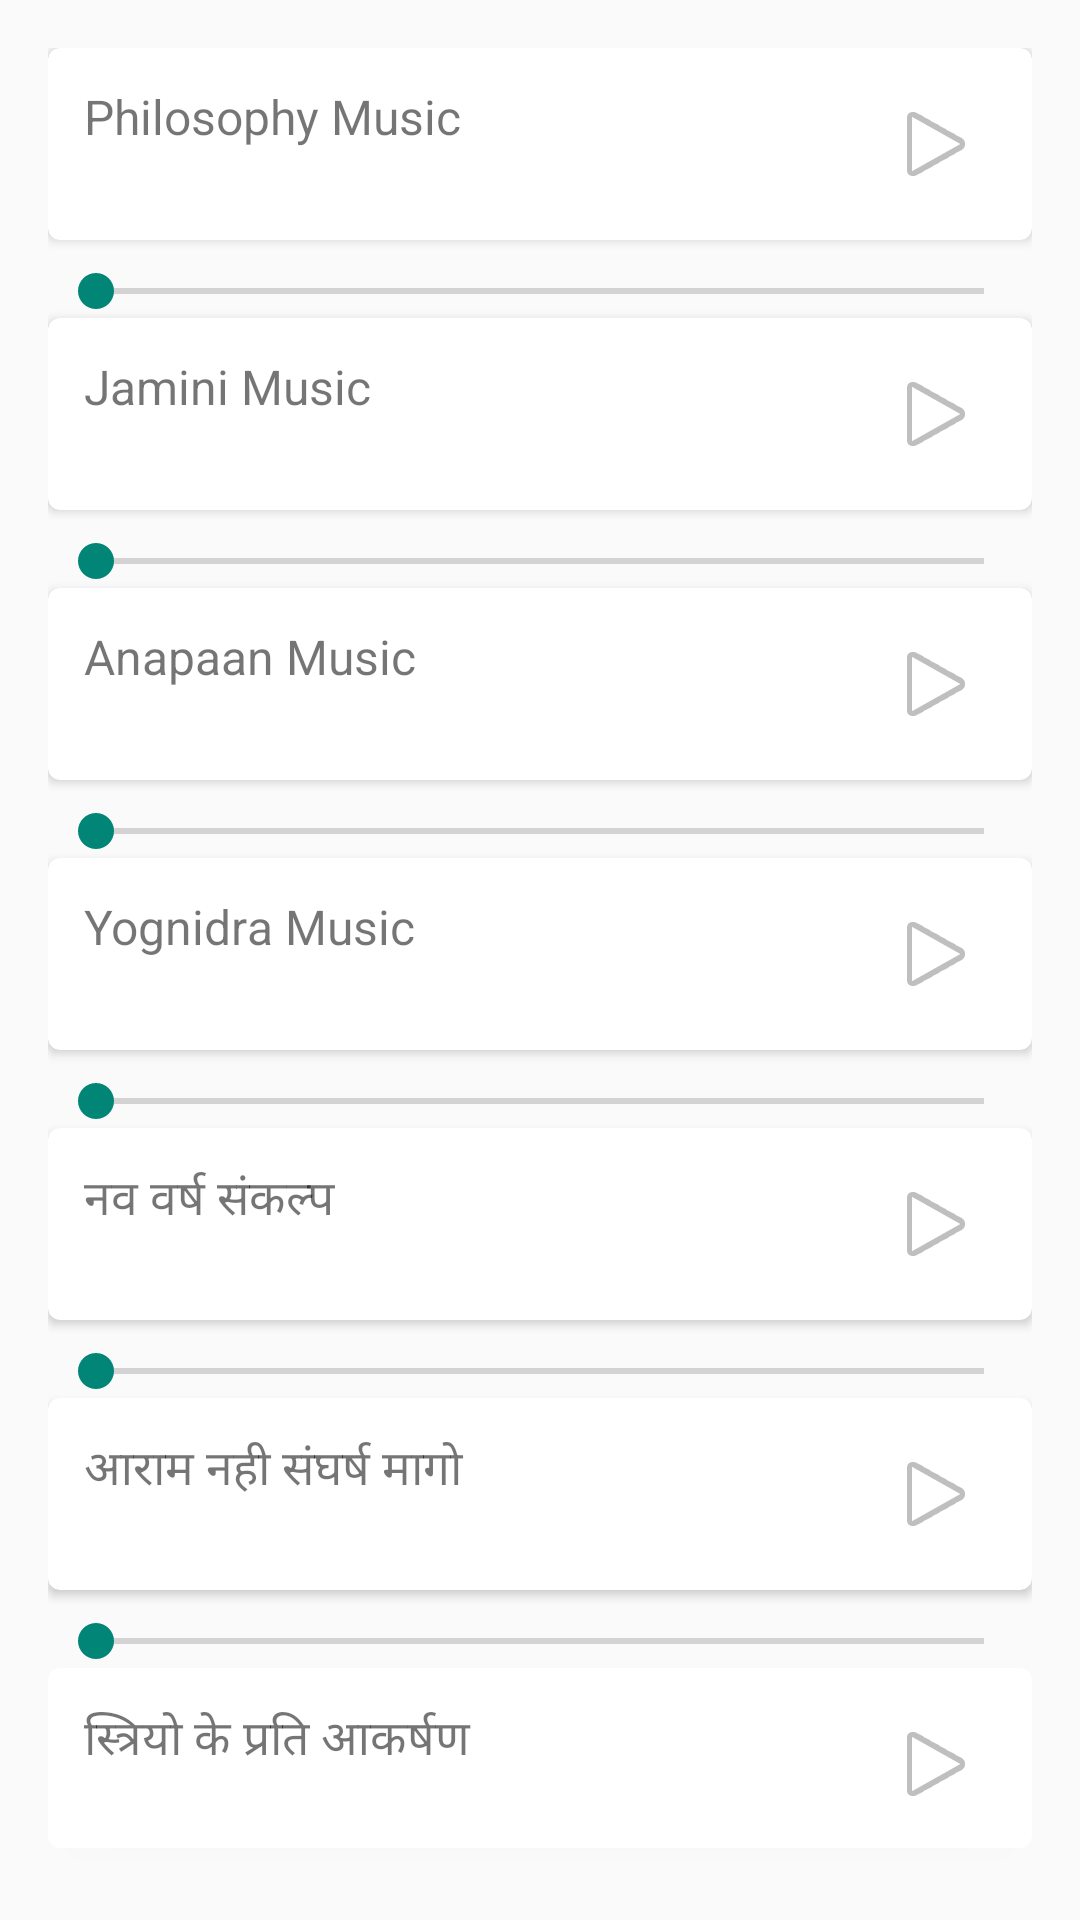

Named icons in this screenshot (1080px×1920px) and their centers, (x=x, y=y):
play: (x=936, y=144), (x=936, y=414), (x=936, y=684), (x=936, y=954), (x=936, y=1224), (x=936, y=1494), (x=936, y=1764)
